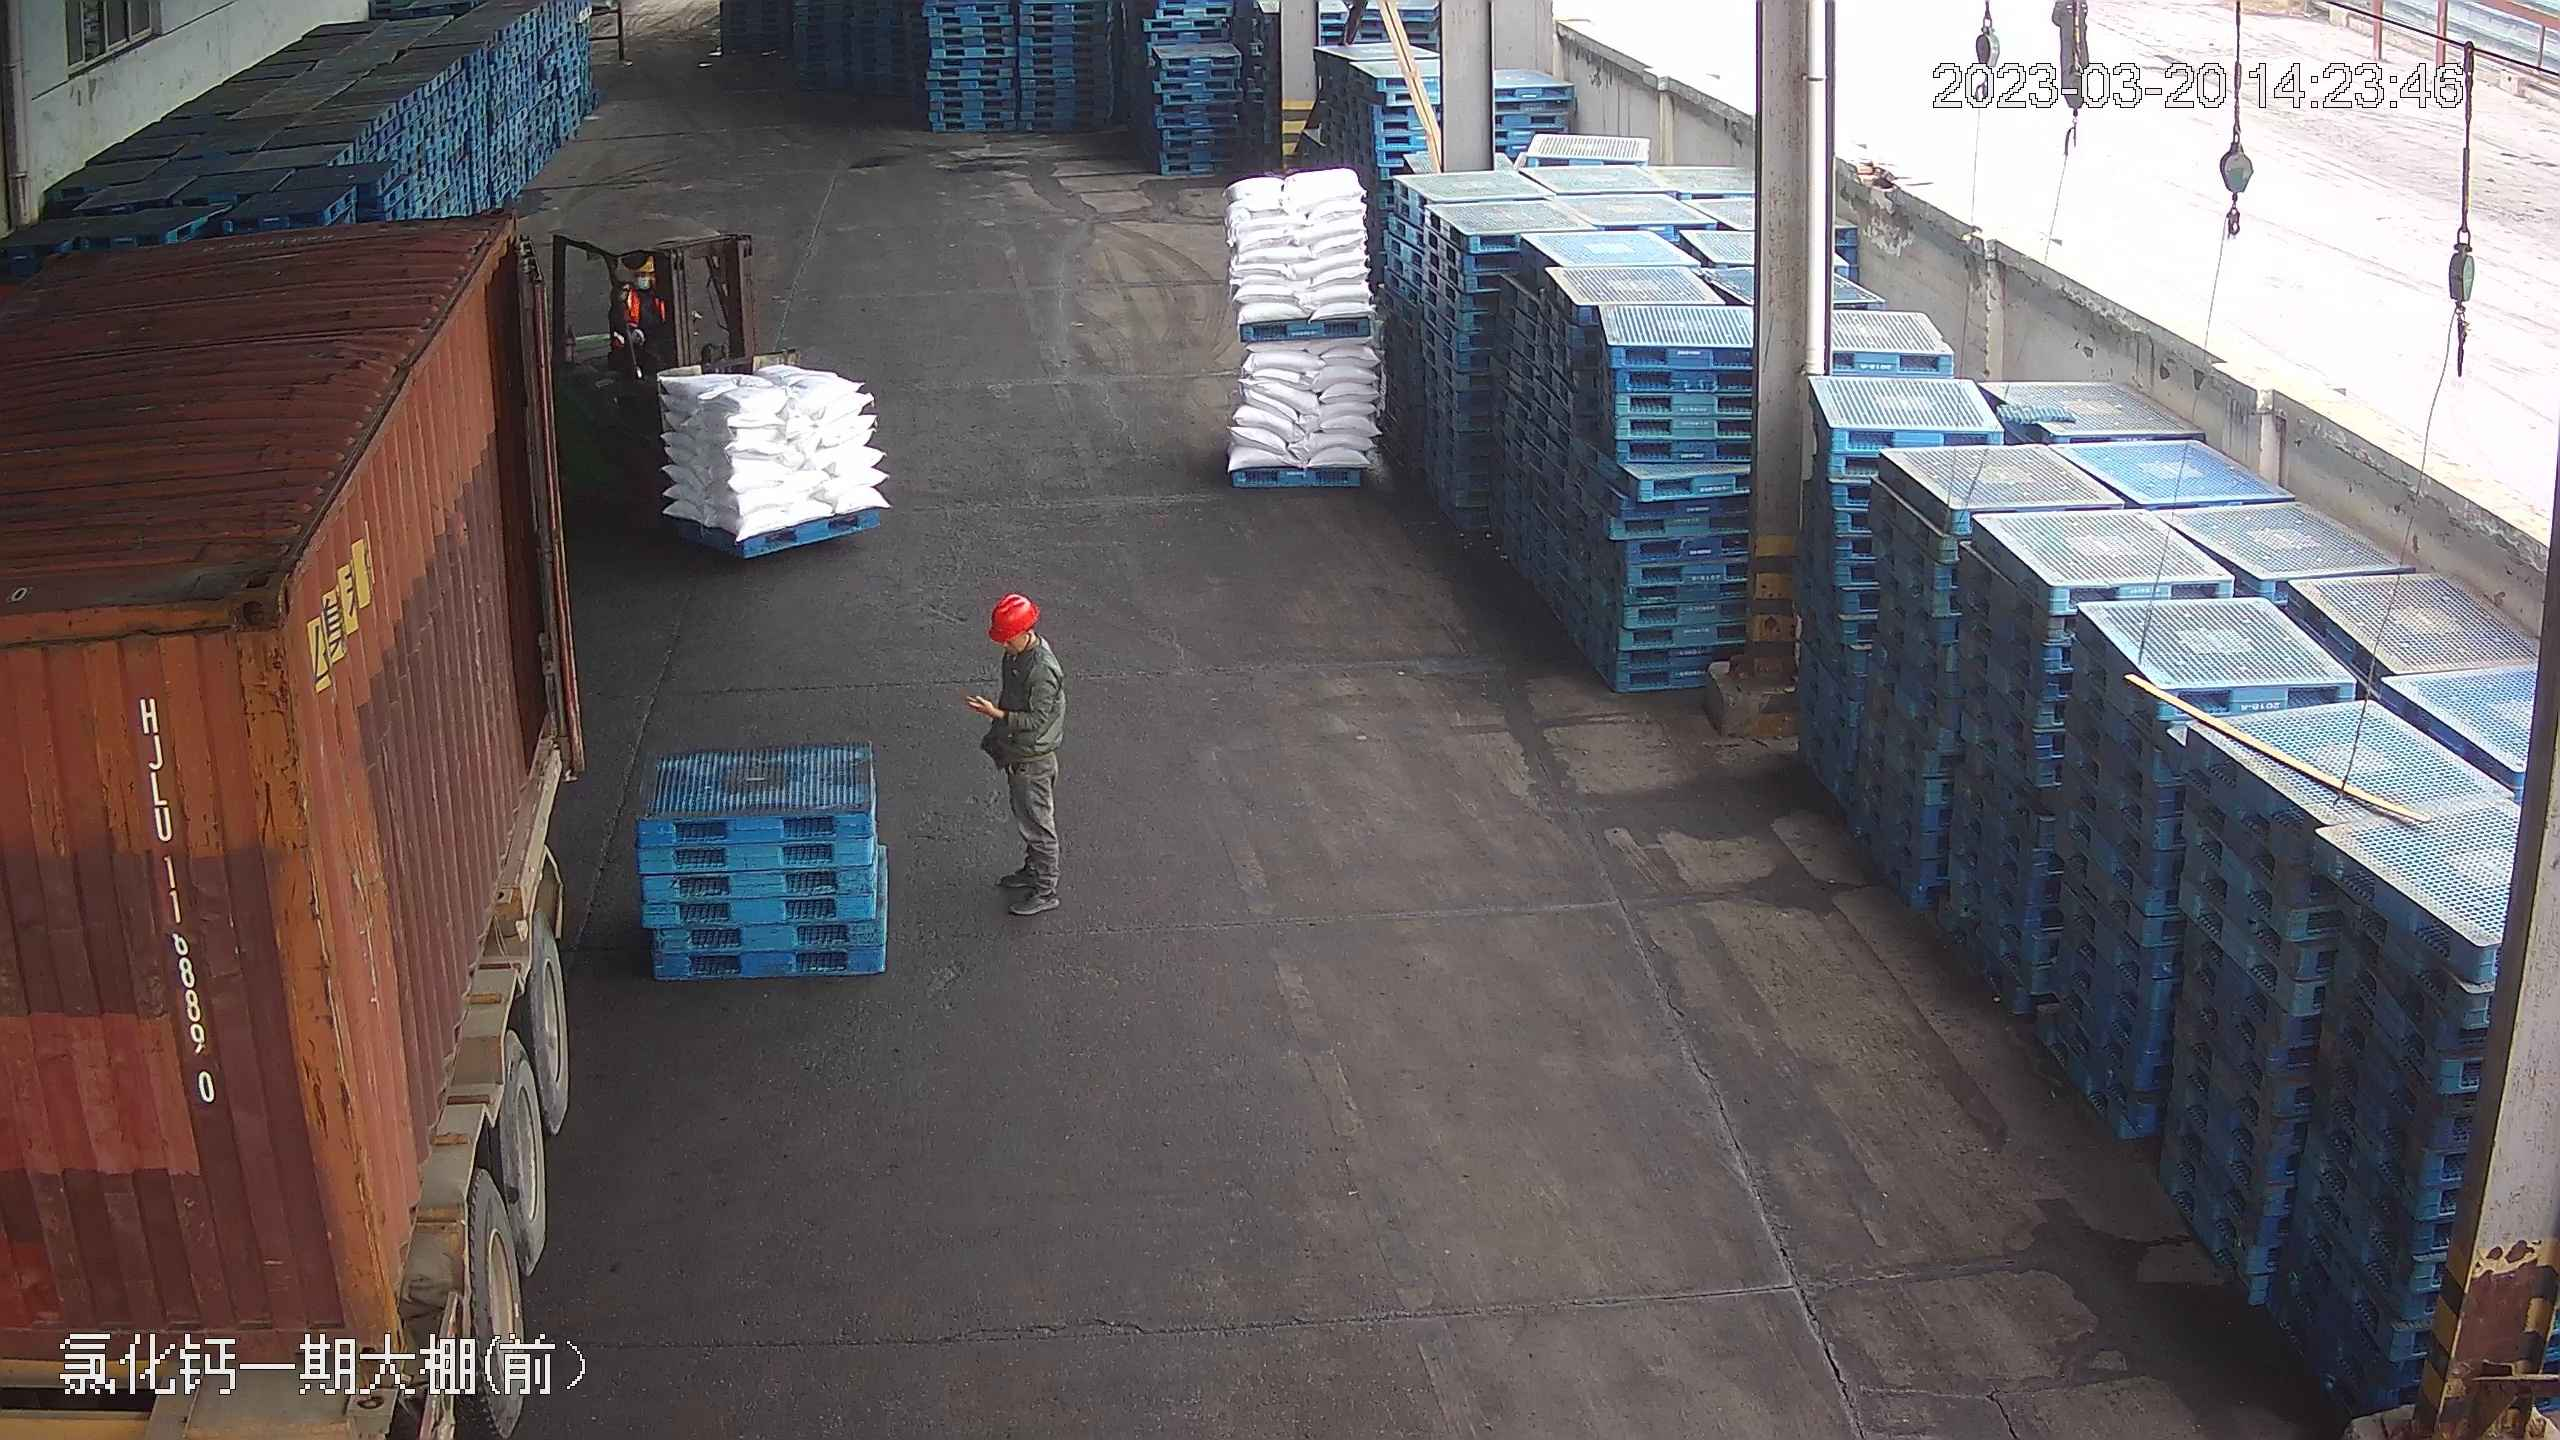head: (982, 591, 1065, 693)
helmet: (987, 591, 1042, 636)
people: (958, 590, 1073, 920)
truck: (2, 194, 625, 1440)
